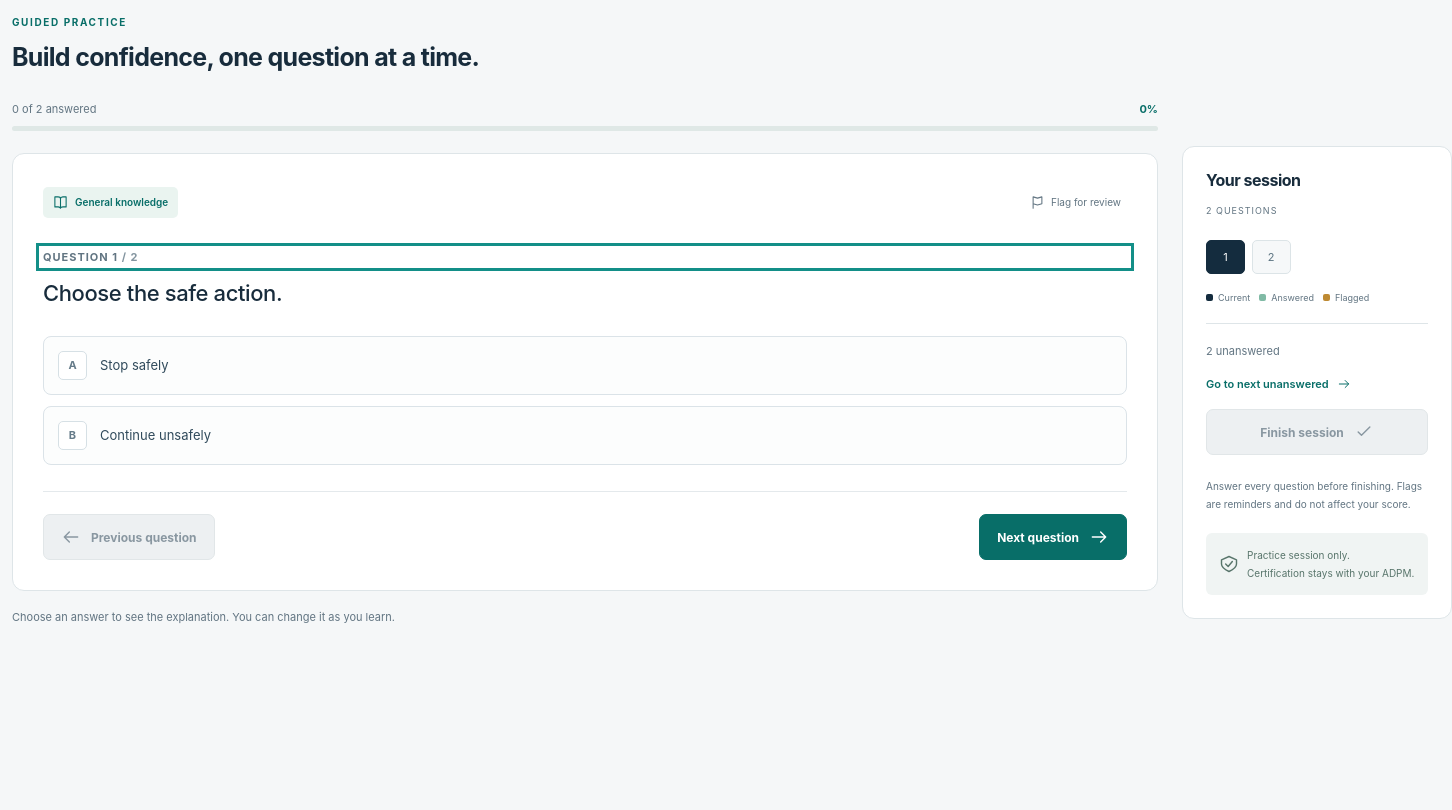
Scenario: practice selection and feedback survive navigation
The image size is (1452, 810).
Click the button "A Stop safely".
click(134, 365)  # box top-left (43, 336), bottom-right (1127, 395)
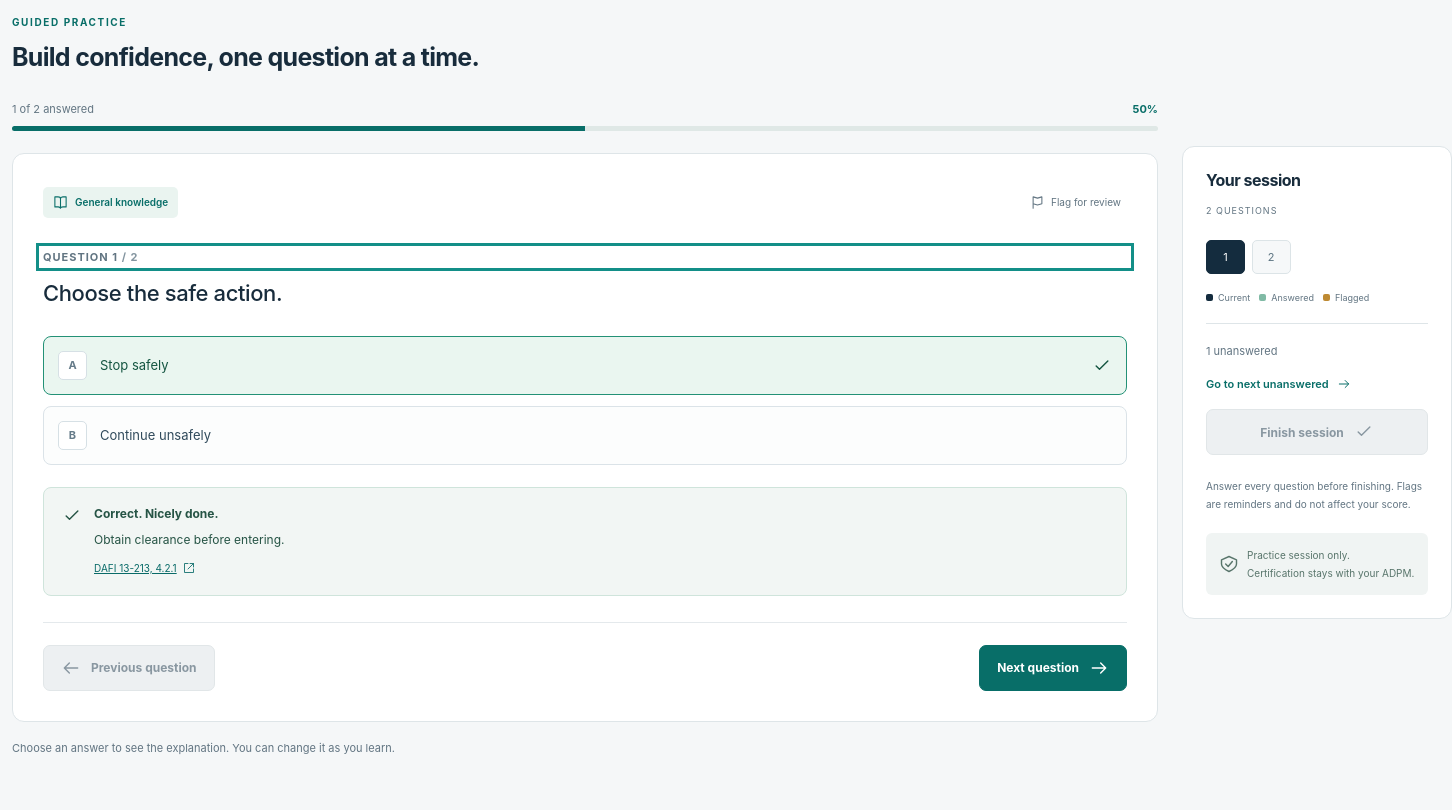
Now the message shows "Correct", box top-left (94, 506), bottom-right (218, 521)
Click the button "Next question".
click(1053, 668)  # box top-left (979, 645), bottom-right (1127, 691)
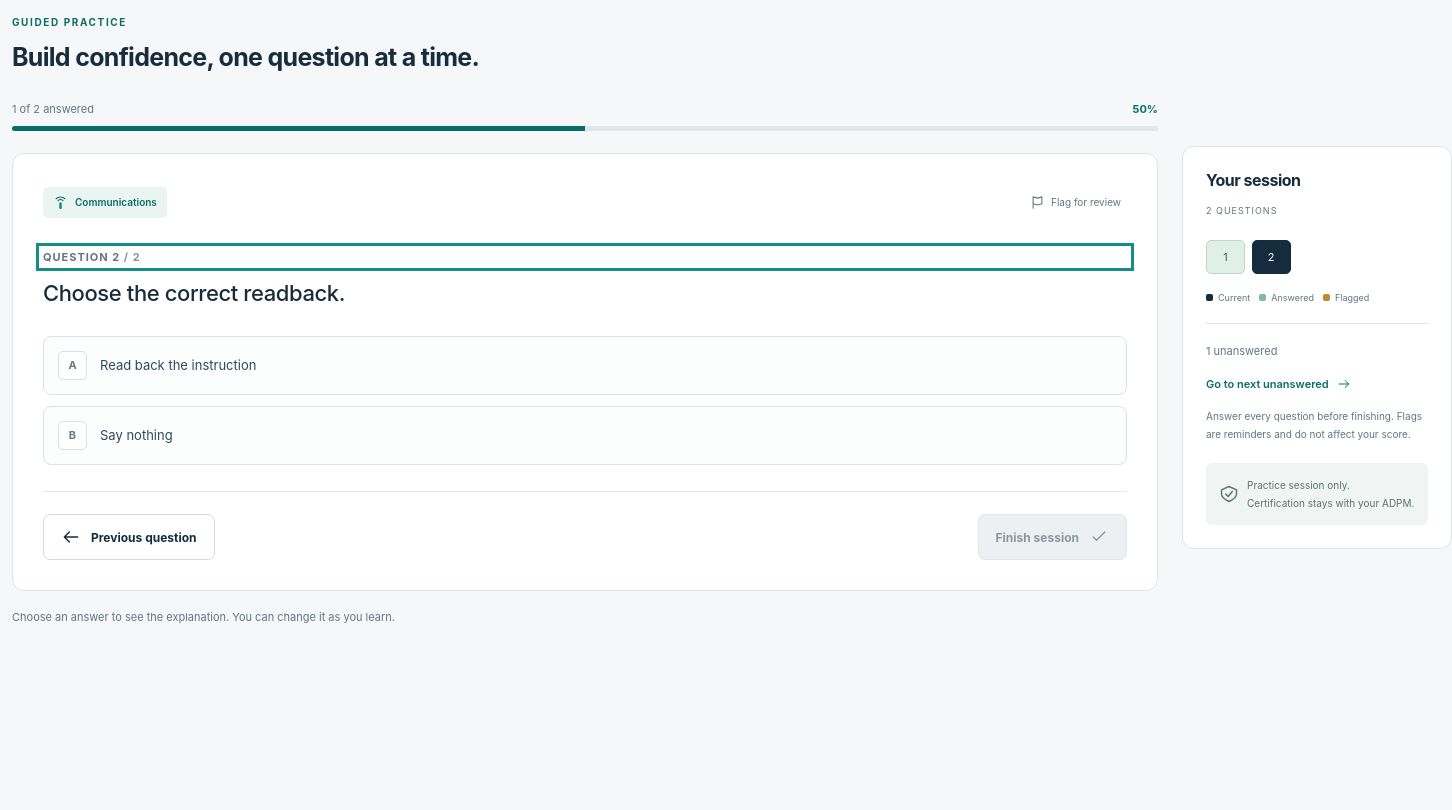
Now the text "Obtain clearance before entering." is gone
Click the button "Previous question".
click(129, 537)  # box top-left (43, 514), bottom-right (214, 560)
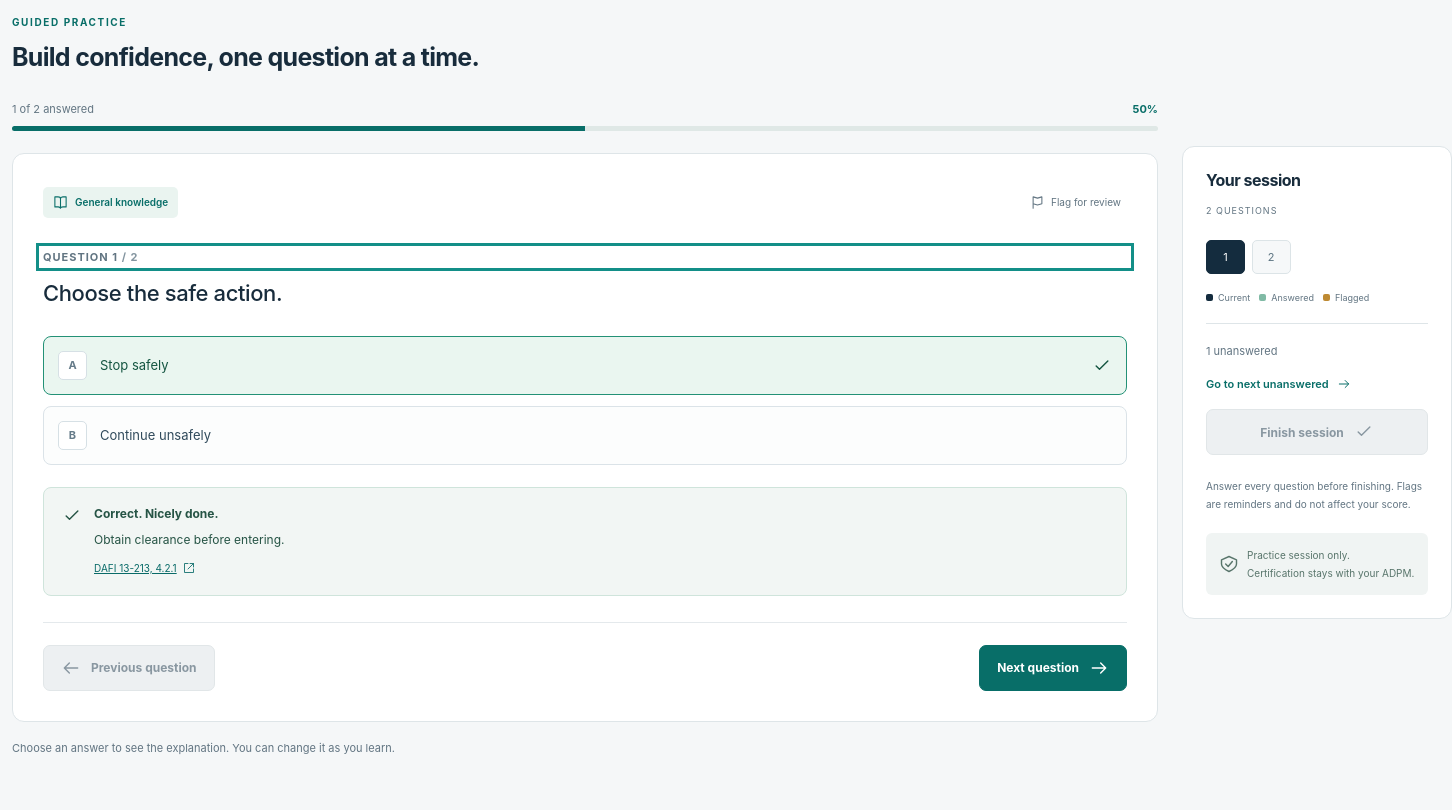
Now the message shows "Correct", box top-left (94, 506), bottom-right (218, 521)
